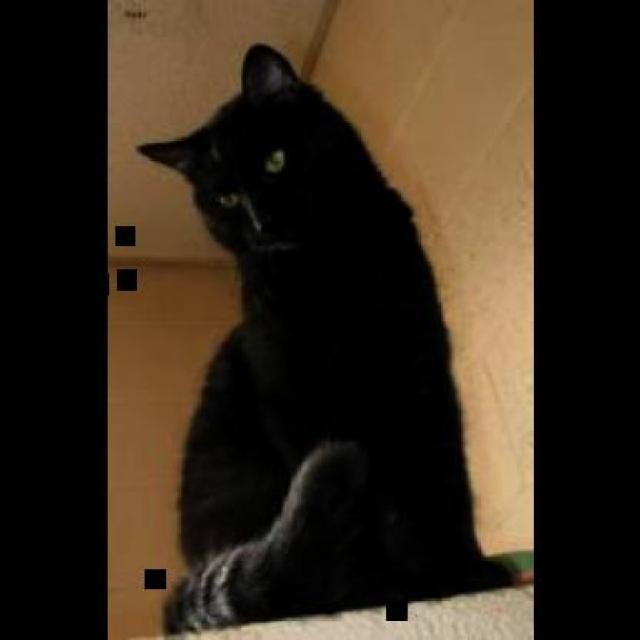unauthorized: (134, 41, 531, 637)
